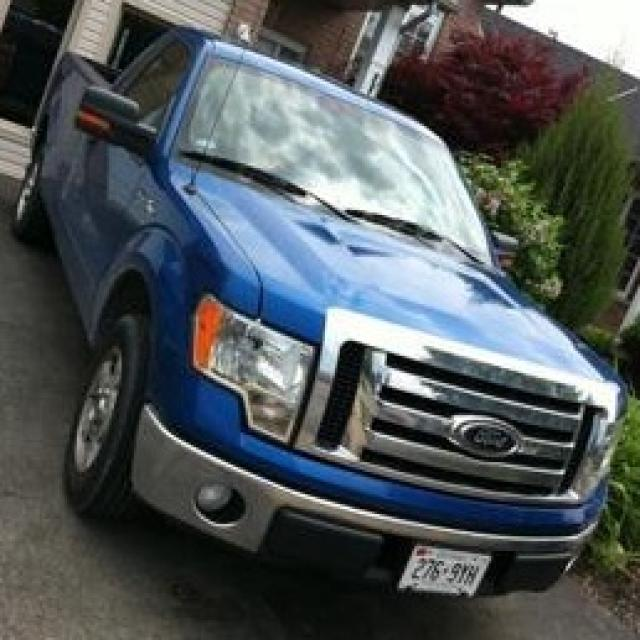CMT: (0, 40, 620, 625)
